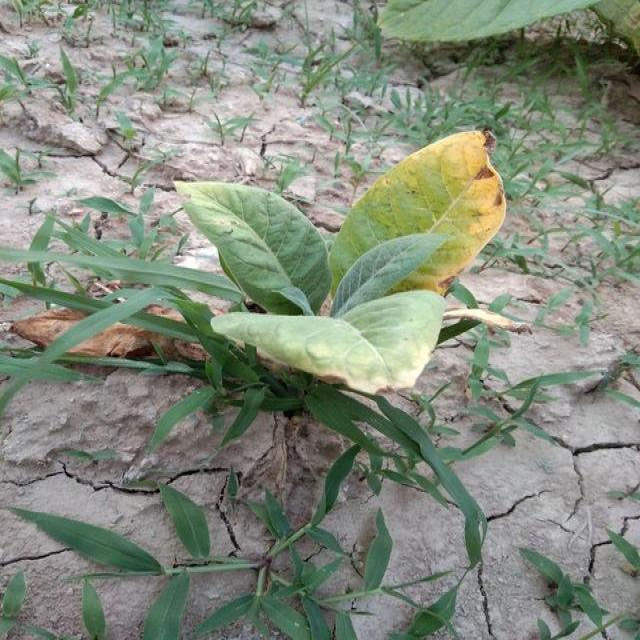crop: (173, 129, 509, 403)
